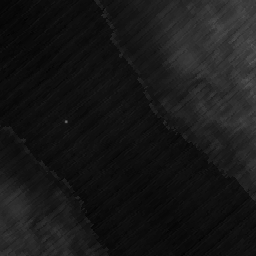Target: (62, 119, 68, 124)
